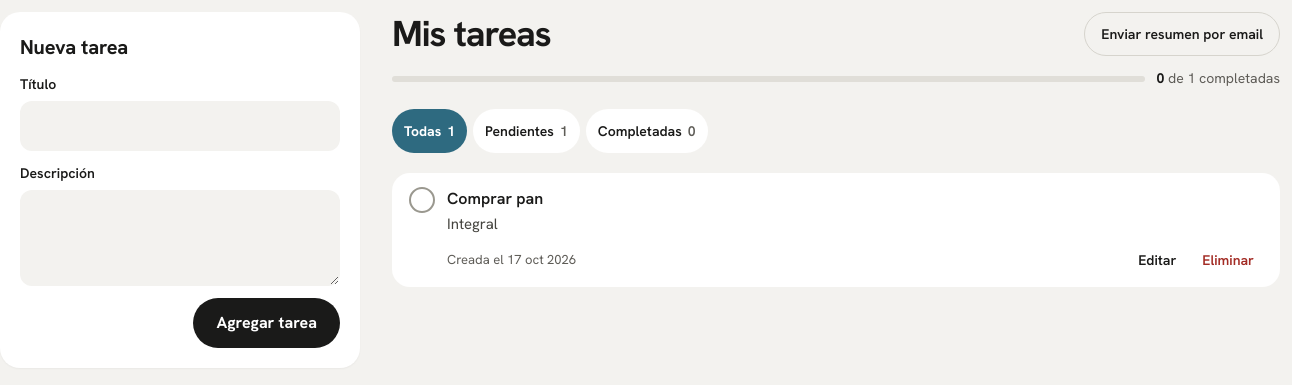
Scenario: Enviar resumen › explains when the recipient is not enabled for sending
What coordinates should you click on to do the following:
click the button "Enviar resumen por email"
I would click on:
 (1182, 34)
Its box is [1084, 12, 1280, 56].
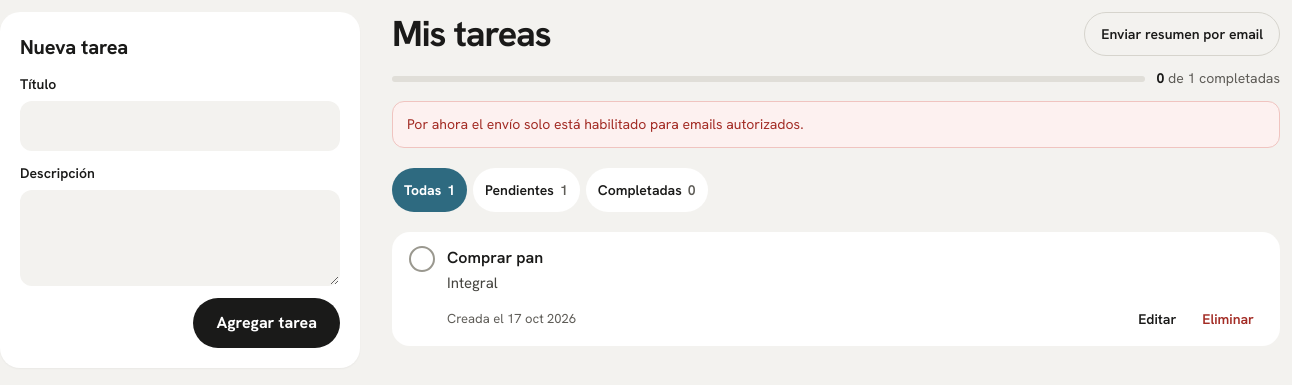
Expected: the message reads "Por ahora el envío solo está habilitado para emails autorizados.", [407, 115, 804, 133]
